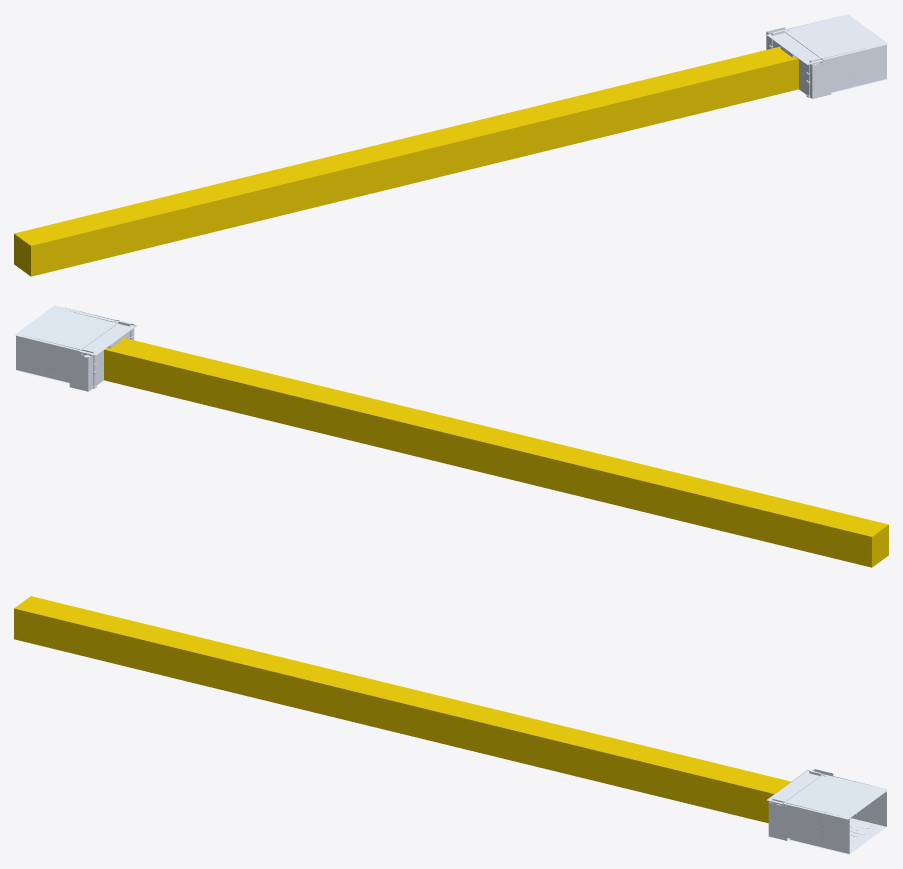
3 views of the same model, one above another, from view 1: azimuth 30°, elevation 25°; view 2: azimuth 150°, elevation 25°; view 3: azimuth 330°, elevation 25° (orthographic).
Visible parts, largest first — view 1: Cube009, Cube139, Cube135, Cube159, Cube138; view 2: Cube009, Cube139, Cube134, Cube159, Cube138; view 3: Cube009, Cube139, Cube135, Cube159, Plane009, Cube134, Cube138.
Boxes of the visible parts, x1,y1,x2,y2 form: Cube009: [14, 46, 798, 276]; Cube139: [783, 14, 888, 60]; Cube135: [823, 44, 886, 92]; Cube159: [766, 27, 831, 98]; Cube138: [766, 32, 826, 64]; Cube009: [104, 337, 888, 567]; Cube139: [14, 305, 118, 351]; Cube134: [16, 335, 79, 382]; Cube159: [69, 320, 134, 391]; Cube138: [76, 323, 136, 355]; Cube009: [14, 596, 790, 823]; Cube139: [782, 773, 888, 819]; Cube135: [786, 802, 849, 853]; Cube159: [768, 769, 833, 840]; Plane009: [789, 818, 887, 854]; Cube134: [823, 775, 886, 826]; Cube138: [766, 770, 822, 805].
Bounding box in the file's own units: 421 × 18.14 × 39.65.
